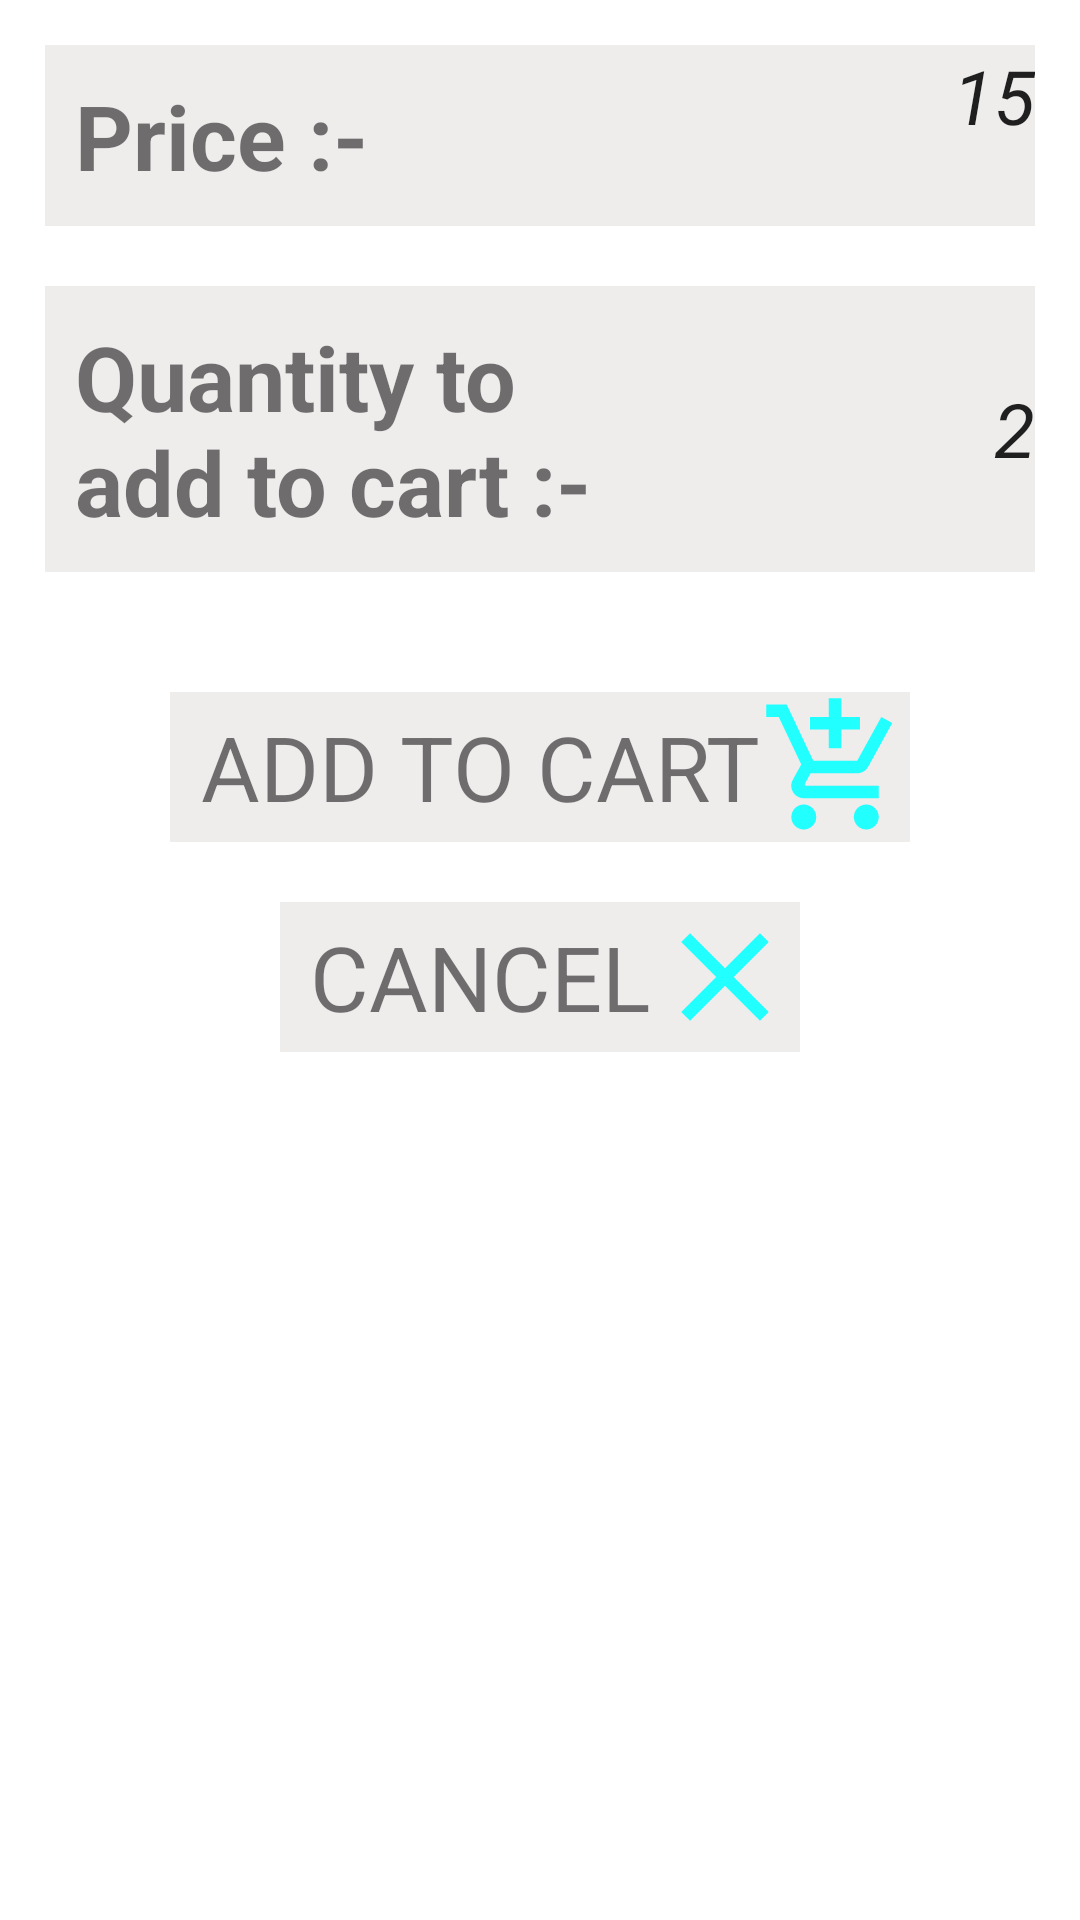

Screen size 1080w x 1920h. Icon name, then its center in pixels as point (x, y):
add shopping cart: point (835, 767)
close: point (725, 977)
